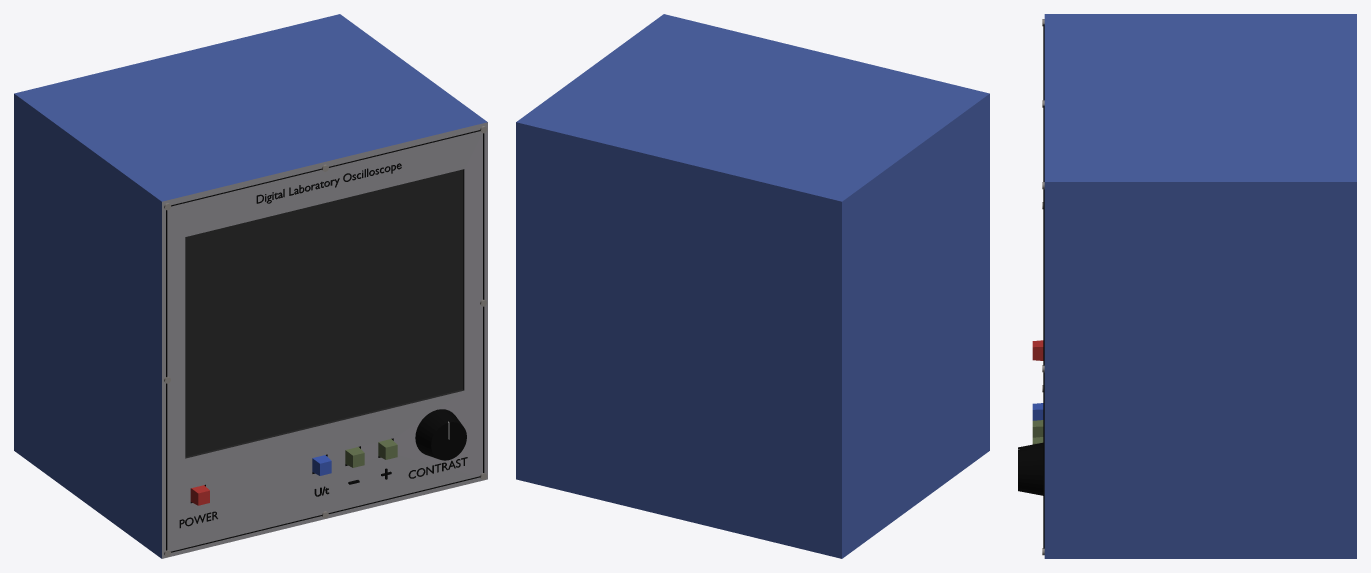
The model's file is oscilloscope.glb.
The picture shows the model from 3 angles, left to right: view 1: azimuth 30°, elevation 25°; view 2: azimuth 150°, elevation 25°; view 3: azimuth 270°, elevation 25°; orthographic projection. The views are drawn at different scales.
Visible parts, largest first — view 1: oscil.023, contrast; view 2: oscil.023; view 3: oscil.023, contrast.
Part boxes in pixels (<box>): oscil.023: <box>14,14,487,558</box>; contrast: <box>415,409,466,460</box>; oscil.023: <box>516,14,989,558</box>; oscil.023: <box>1042,14,1356,558</box>; contrast: <box>1018,442,1043,495</box>.
Size of the model in its own units: 191 by 200 by 163.
